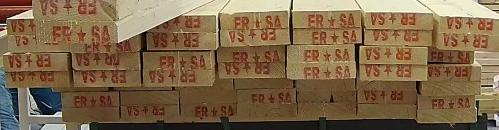Wood-Plank: (431, 0, 499, 34), (358, 0, 433, 30), (221, 0, 292, 29), (294, 0, 362, 28), (36, 21, 117, 44), (31, 0, 116, 21), (143, 50, 215, 70), (146, 32, 219, 50), (143, 69, 215, 87), (72, 51, 140, 70), (287, 61, 357, 79), (4, 53, 70, 72), (221, 28, 290, 46), (360, 46, 428, 64), (144, 15, 215, 32), (294, 27, 363, 44), (434, 32, 499, 50), (218, 45, 286, 62), (288, 46, 356, 63), (360, 64, 428, 81), (218, 62, 286, 79), (73, 70, 141, 87), (5, 71, 72, 88), (237, 103, 298, 121), (6, 35, 70, 52), (365, 30, 432, 46), (7, 20, 73, 35), (299, 103, 354, 121), (429, 62, 483, 80), (180, 87, 237, 104), (418, 108, 478, 124), (358, 103, 418, 119), (181, 105, 237, 122), (122, 106, 179, 122), (418, 94, 477, 109), (238, 88, 297, 103), (420, 82, 482, 96), (60, 108, 119, 122), (356, 77, 416, 90), (120, 92, 179, 105), (430, 48, 475, 64), (62, 93, 117, 106), (296, 79, 353, 91), (297, 90, 354, 102), (359, 91, 416, 102), (235, 79, 294, 89)
